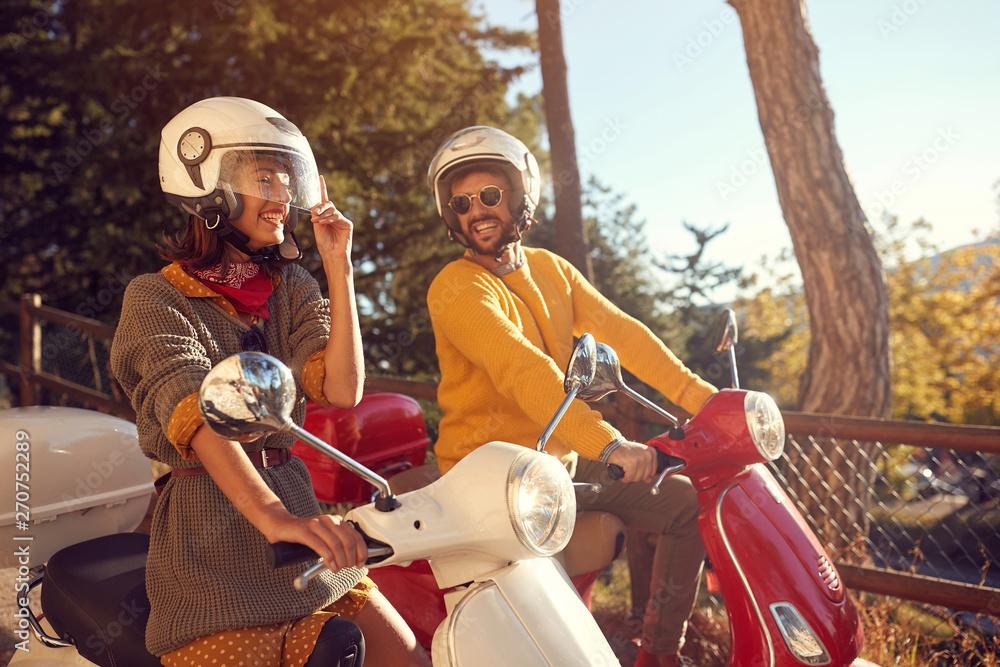helmet: (157, 94, 327, 271), (426, 123, 543, 265)
